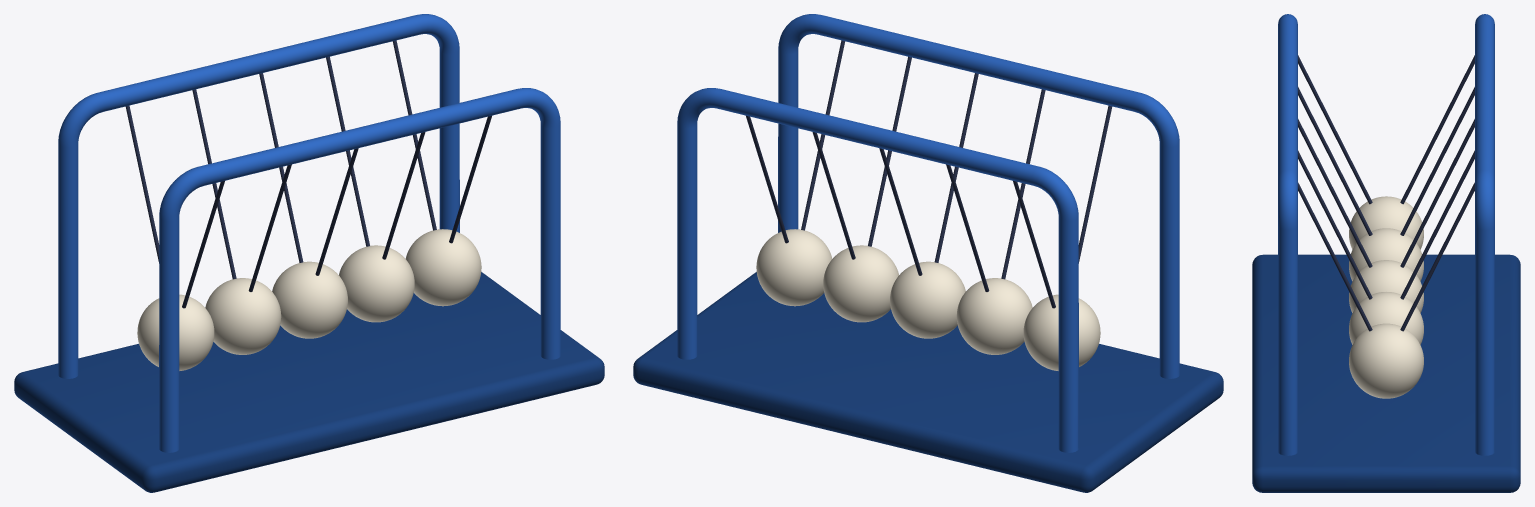
Rendered from high_school-physics.glb.
The picture shows the model from 3 angles, left to right: view 1: azimuth 30°, elevation 25°; view 2: azimuth 150°, elevation 25°; view 3: azimuth 270°, elevation 25°; orthographic projection. The views are drawn at different scales.
Parts seen in each view (by area): view 1: Cube, tube, tube.001, Sphere.003, Sphere.004, Sphere.002, Sphere.001, Sphere, tube.009, tube.011, tube.005, tube.007 (+1 smaller); view 2: Cube, tube.001, tube, Sphere.003, Sphere.004, Sphere.002, Sphere.001, Sphere, tube.008, tube.010, tube.004, tube.006 (+1 smaller); view 3: Cube, tube, tube.001, Sphere.004, Sphere.003, Sphere, Sphere.001, Sphere.002, tube.002, tube.003, tube.006, tube.007 (+6 smaller).
Part boxes in pixels (x1=…): Cube: x1=14, y1=272, x2=604, y2=492; tube: x1=159, y1=88, x2=560, y2=452; tube.001: x1=58, y1=14, x2=459, y2=378; Sphere.003: x1=339, y1=245, x2=414, y2=322; Sphere.004: x1=405, y1=229, x2=481, y2=306; Sphere.002: x1=272, y1=261, x2=347, y2=338; Sphere.001: x1=205, y1=278, x2=281, y2=354; Sphere: x1=137, y1=294, x2=214, y2=370; tube.009: x1=326, y1=56, x2=369, y2=246; tube.011: x1=392, y1=40, x2=436, y2=230; tube.005: x1=192, y1=89, x2=236, y2=279; tube.007: x1=259, y1=73, x2=303, y2=262; Cube: x1=633, y1=272, x2=1223, y2=492; tube.001: x1=677, y1=88, x2=1078, y2=452; tube: x1=778, y1=14, x2=1179, y2=378; Sphere.003: x1=823, y1=245, x2=898, y2=322; Sphere.004: x1=756, y1=229, x2=832, y2=306; Sphere.002: x1=890, y1=261, x2=965, y2=338; Sphere.001: x1=956, y1=278, x2=1032, y2=354; Sphere: x1=1023, y1=294, x2=1100, y2=370; tube.008: x1=868, y1=56, x2=911, y2=246; tube.010: x1=801, y1=40, x2=845, y2=230; tube.004: x1=1001, y1=89, x2=1045, y2=279; tube.006: x1=934, y1=73, x2=978, y2=262; Cube: x1=1252, y1=254, x2=1520, y2=492; tube: x1=1278, y1=14, x2=1297, y2=455; tube.001: x1=1475, y1=14, x2=1494, y2=455; Sphere.004: x1=1349, y1=323, x2=1423, y2=398; Sphere.003: x1=1349, y1=292, x2=1423, y2=344; Sphere: x1=1349, y1=196, x2=1423, y2=249; Sphere.001: x1=1349, y1=228, x2=1423, y2=281; Sphere.002: x1=1349, y1=260, x2=1423, y2=312; tube.002: x1=1298, y1=55, x2=1372, y2=204; tube.003: x1=1400, y1=55, x2=1474, y2=204; tube.006: x1=1298, y1=119, x2=1372, y2=267; tube.007: x1=1400, y1=119, x2=1474, y2=267.
Size of the model in its own units: 2.9 by 1.8 by 1.5.
